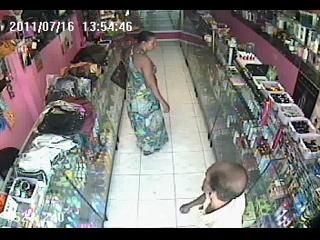Normal: (124, 30, 170, 156), (177, 162, 250, 228), (110, 60, 127, 90)
